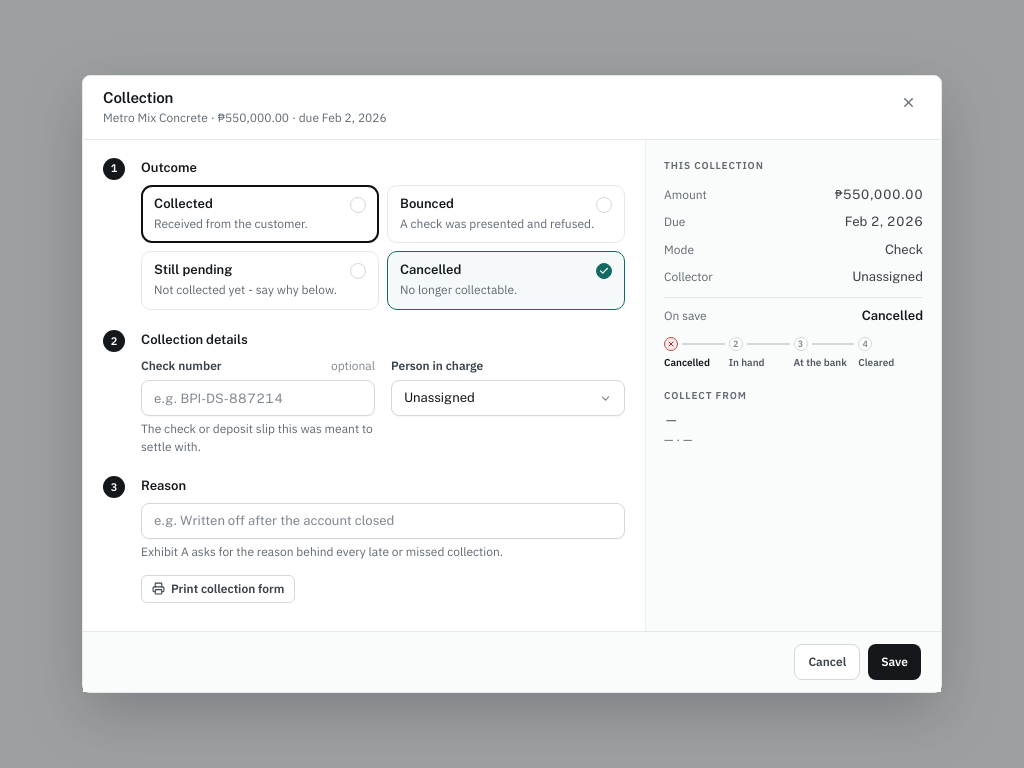
Test: settling a collection › will not write off a receivable with no reason
This screenshot has width=1024, height=768.
Click the button "Save" at [895, 662], box [868,644,921,680]
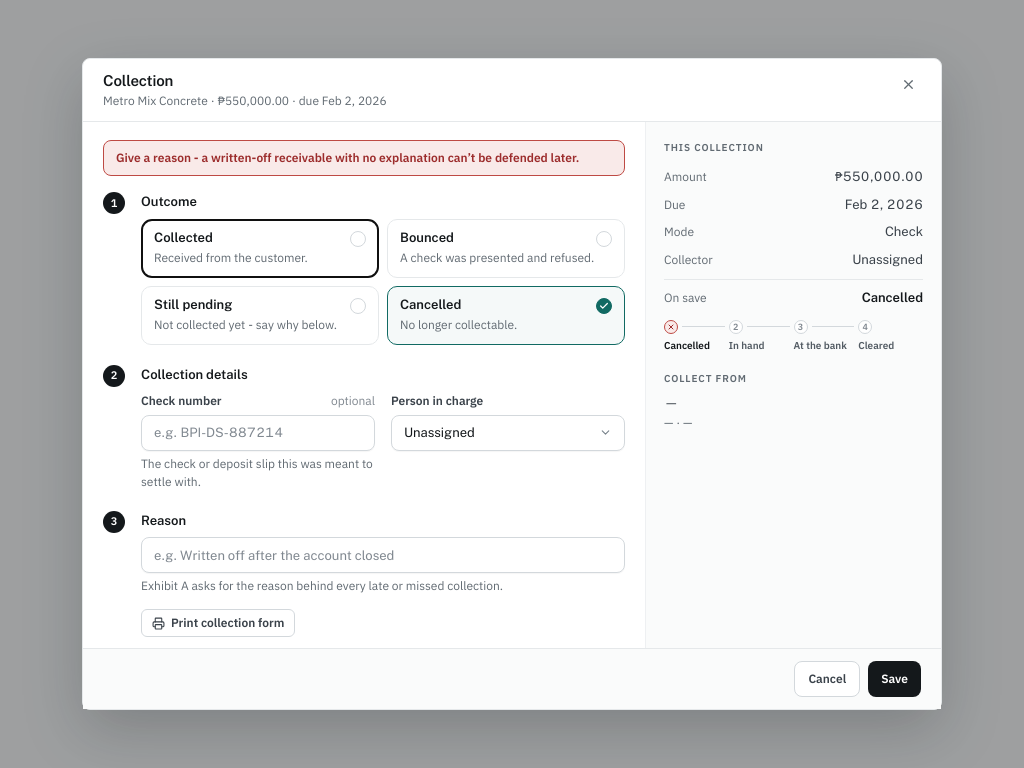
Result: the text "can’t be defended later" is shown at [116,150,579,165]
